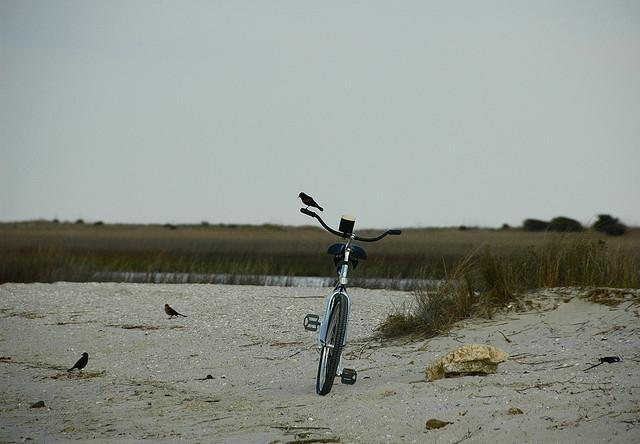bicycle: (300, 207, 404, 392)
